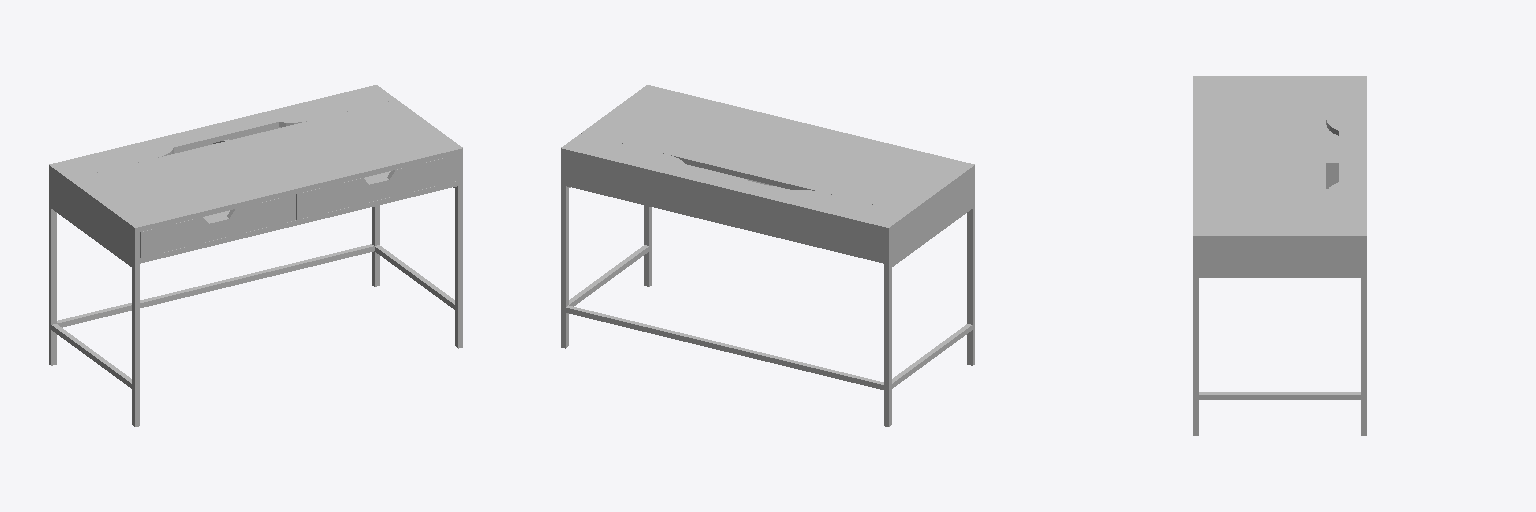
3 renders of one model, left to right at view 1: azimuth 30°, elevation 25°; view 2: azimuth 150°, elevation 25°; view 3: azimuth 270°, elevation 25°, orthographic.
Parts seen in each view (by area): view 1: Plumbing_Fixtures; view 2: Plumbing_Fixtures; view 3: Plumbing_Fixtures.
Boxes of the visible parts, <box> form: Plumbing_Fixtures: <box>49,85,462,426</box>; Plumbing_Fixtures: <box>561,85,974,426</box>; Plumbing_Fixtures: <box>1193,76,1366,435</box>.
Bounding box in the file's own units: 1310 × 760 × 600.